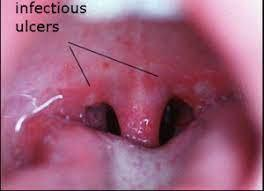Ulcer: (177, 72, 230, 108), (79, 88, 110, 113)
